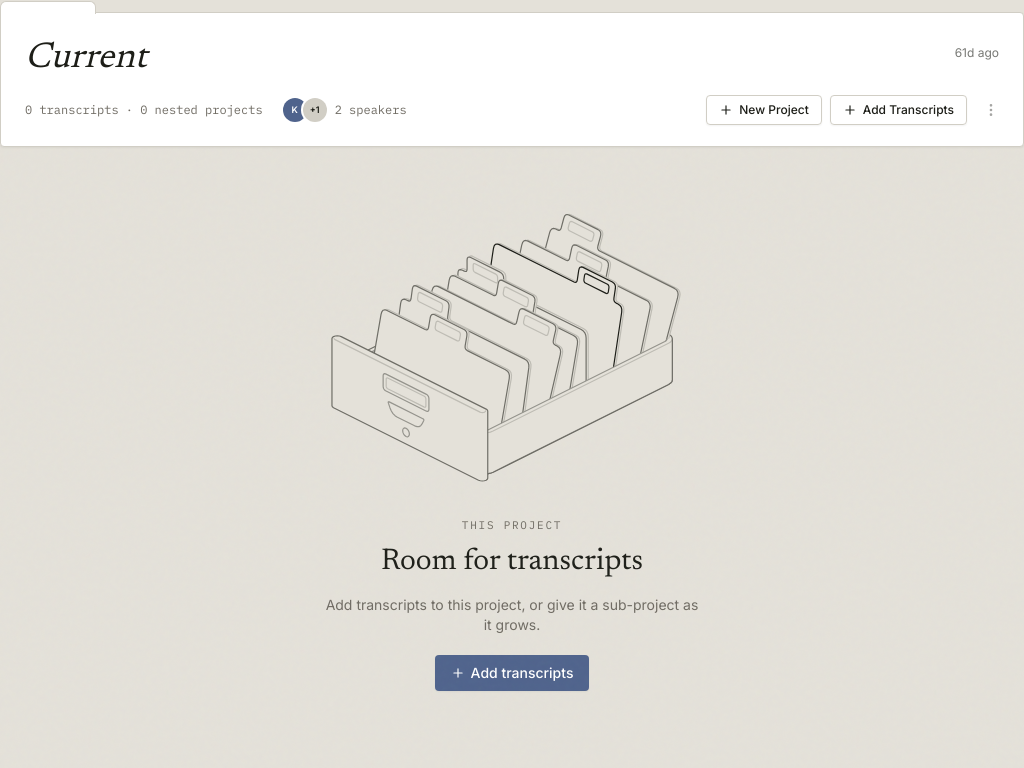
Scenario: ProjectPage › speakers › people dialog › a fresher count from the dialog makes the header read again, once
The width and height of the screenshot is (1024, 768).
Click the button with aria-label "Speakers in Current: 2 speakers" at x=348, y=110, box [279,94,417,126]
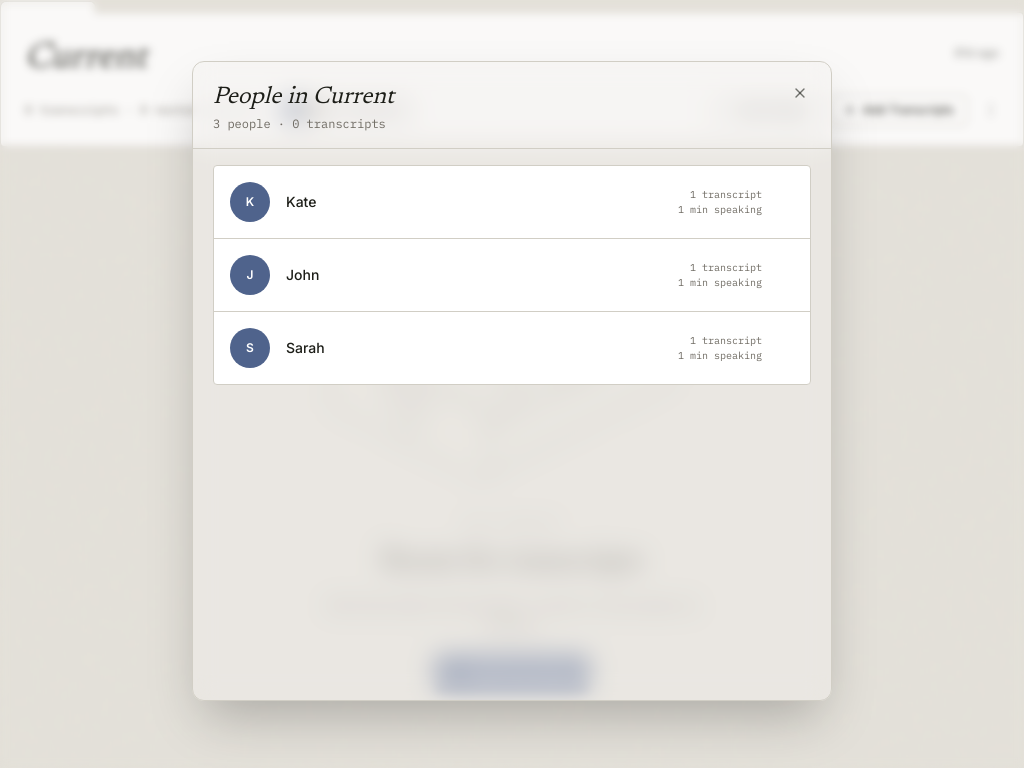
Now the button with test id "person-row-p2" is shown, box [214,312,810,384]
